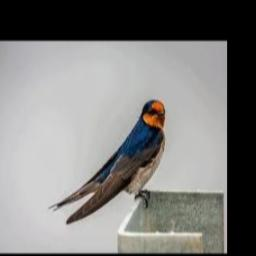Swallow: (48, 100, 165, 224)
